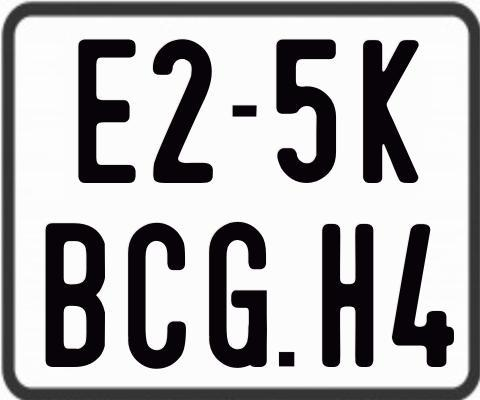2: (153, 39, 214, 185)
4: (391, 221, 456, 368)
5: (275, 36, 337, 184)
B: (46, 223, 110, 371)
C: (128, 223, 189, 370)
E: (77, 36, 138, 181)
G: (209, 219, 268, 368)
H: (320, 222, 373, 365)
K: (363, 39, 422, 187)
